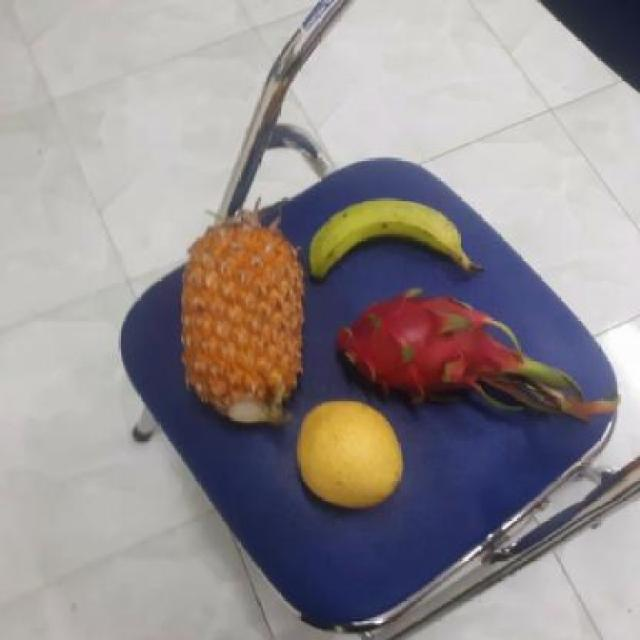banana: (305, 198, 460, 280)
dragon fruit: (326, 293, 525, 412)
pear: (288, 400, 406, 509)
sugar apple: (173, 218, 305, 427)
